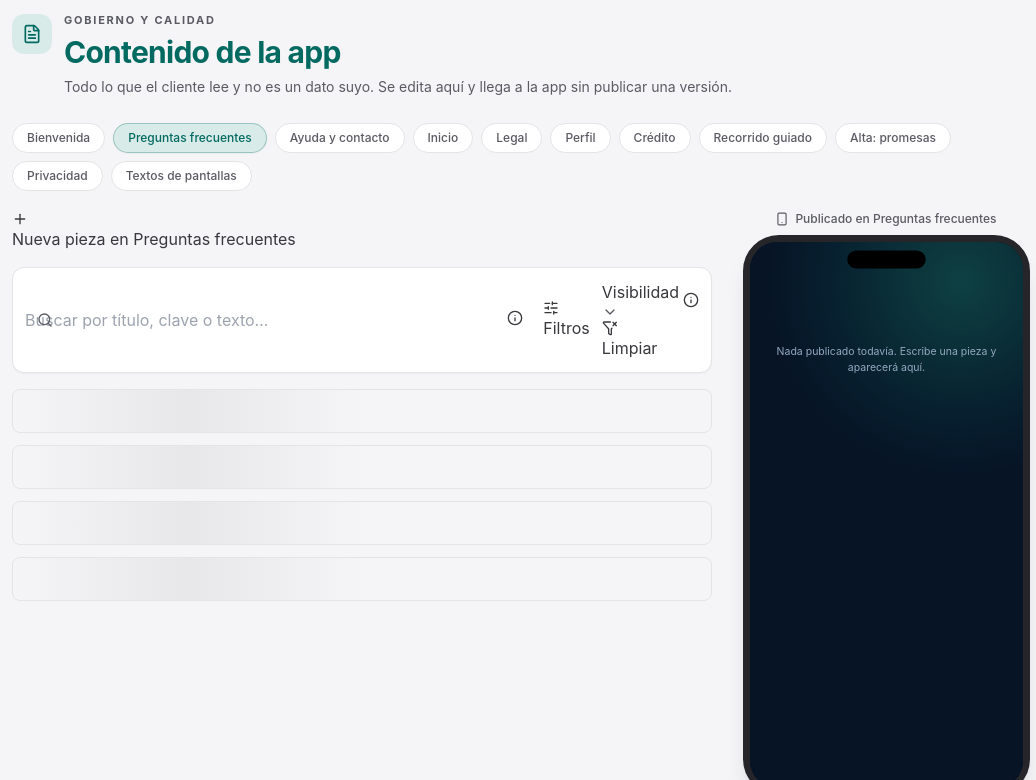
Test: Contenido de la app › Inicio, Perfil y Crédito ya llegan a la app y dicen dónde salen
Click the button "Inicio".
click(443, 138)  # box 413,122 -> 473,152
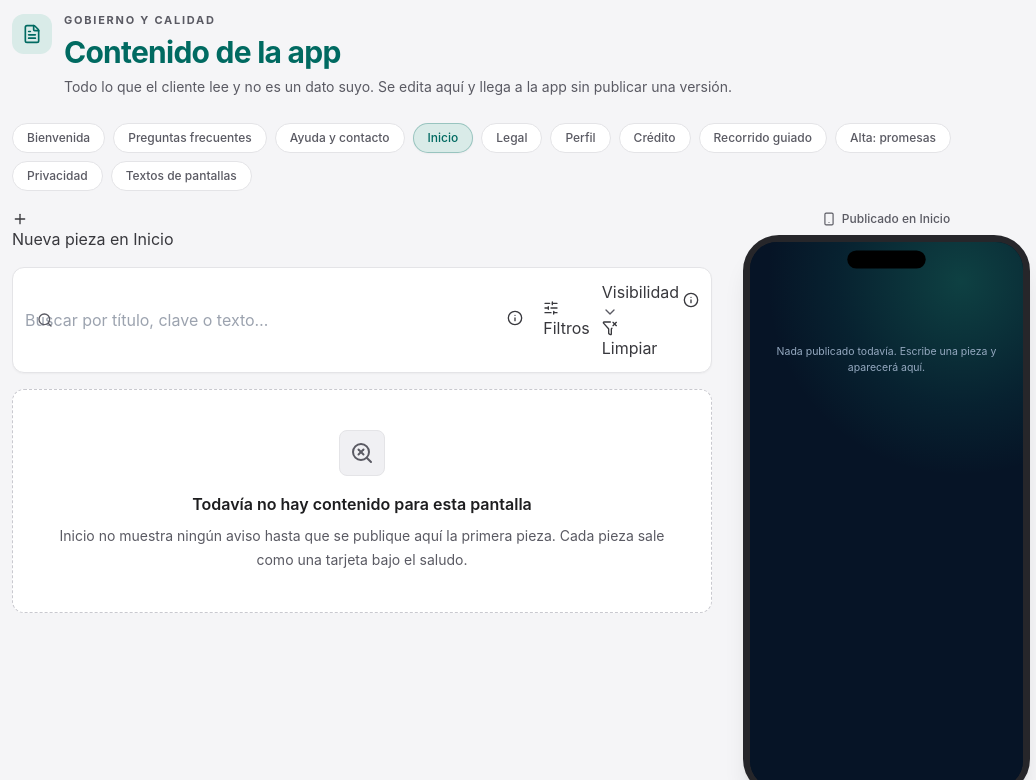
Expected: the text "bajo el saludo" is shown, 60,526 -> 664,568
Click the button "Perfil".
click(580, 138)  # box 550,122 -> 611,152
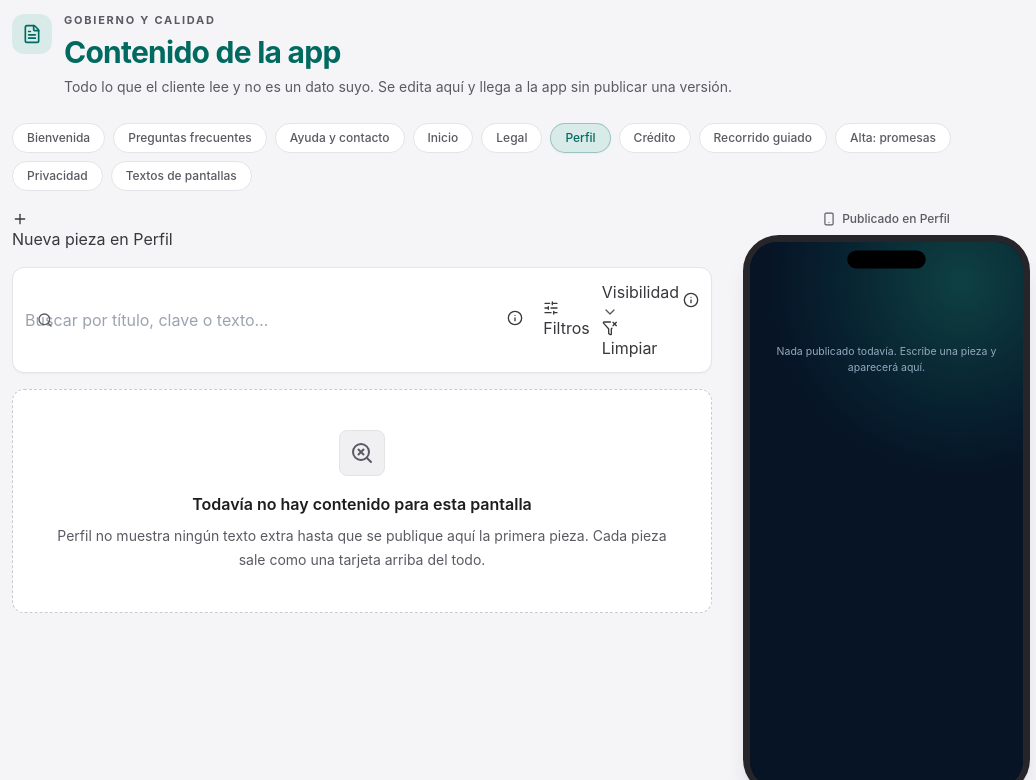
Expected: the text "arriba del todo" is shown, 57,526 -> 667,568
Click the button "Crédito".
click(655, 138)  # box 619,122 -> 690,152
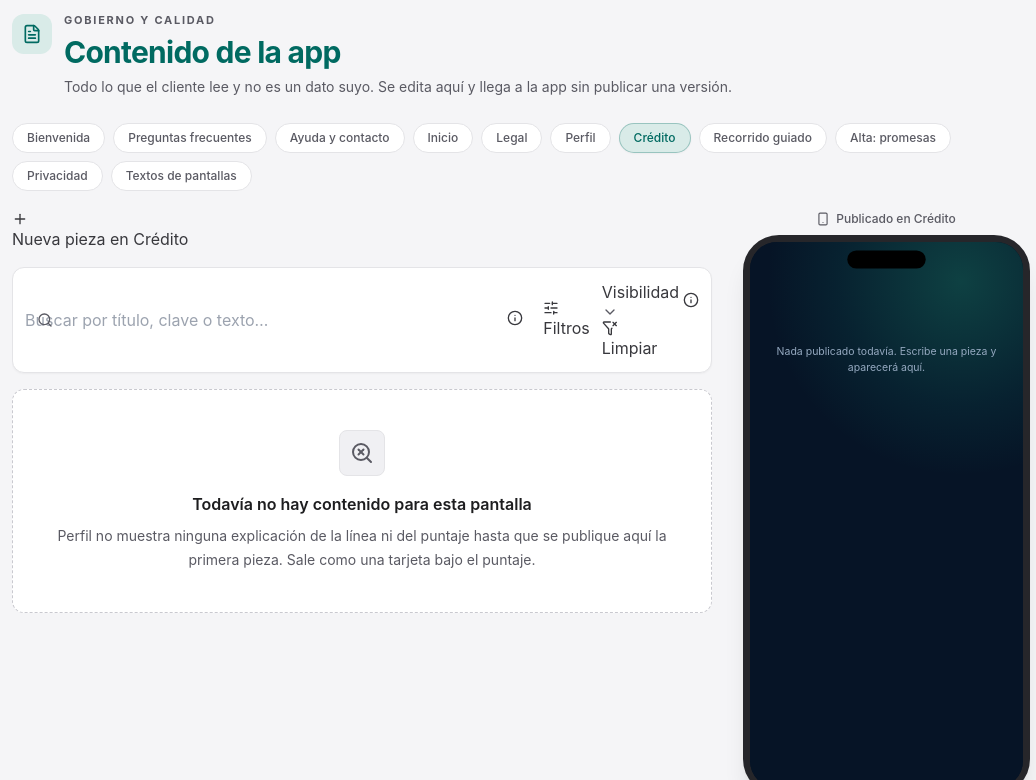
Expected: the text "bajo el puntaje" is shown, 57,526 -> 666,568
